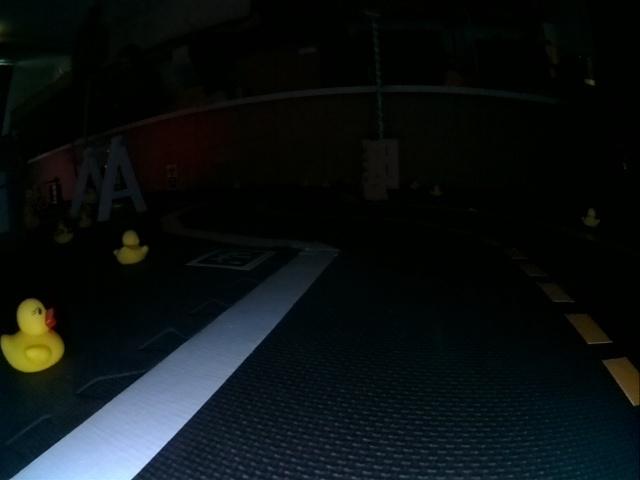Duckie: (5, 299, 65, 370), (116, 231, 148, 264), (53, 226, 73, 242), (583, 208, 600, 226), (431, 185, 440, 195)
QR code: (187, 249, 276, 269)
